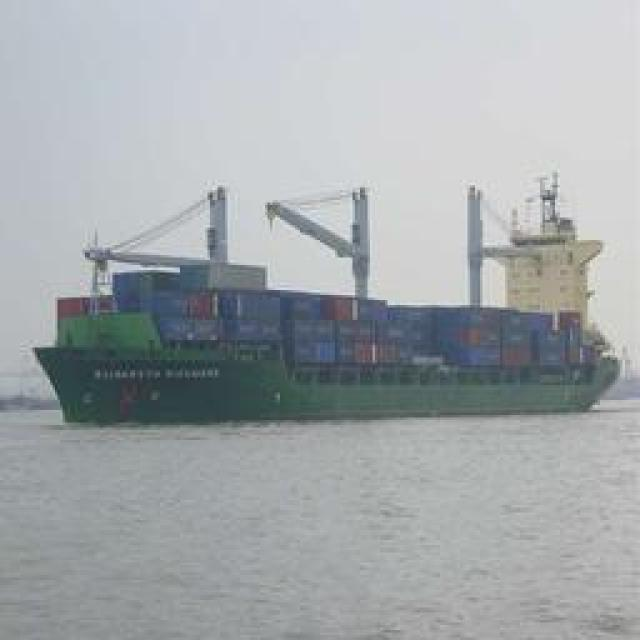CIV_Ship: (27, 166, 625, 416)
